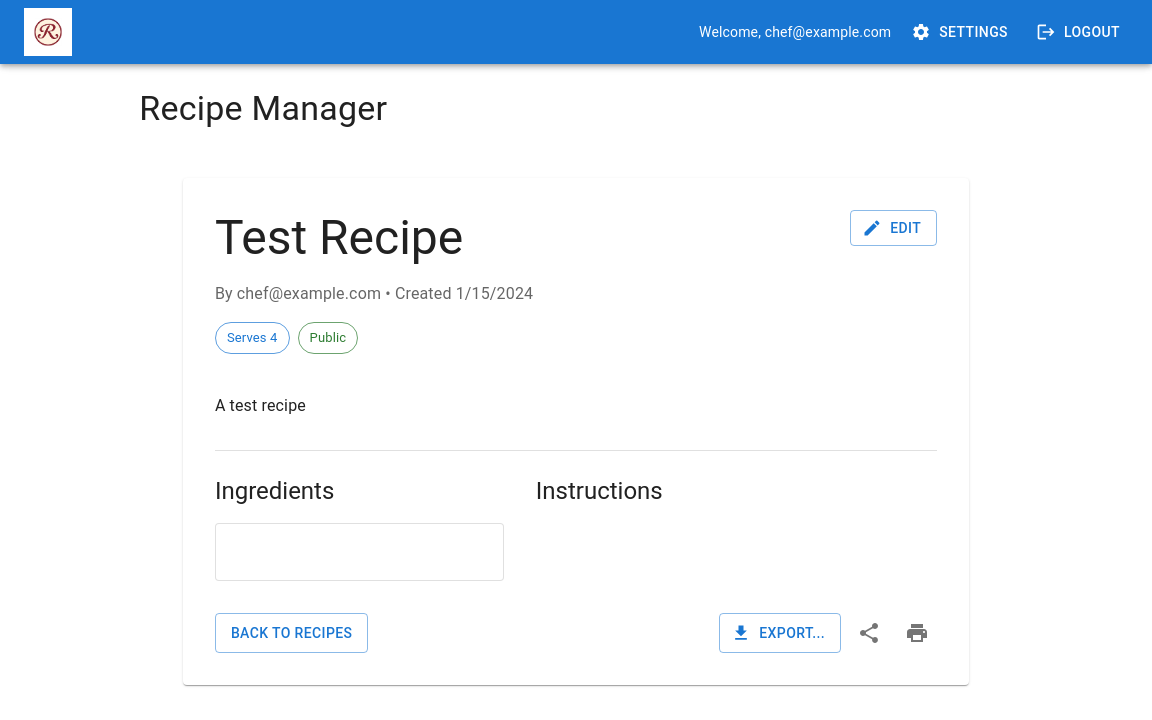
it: RecipeViewPage › Export filename › updates filename to slugified title with .xml extension when RecipeML is selected
Expected: the heading "Test Recipe" is shown, [215, 209, 463, 266]
Click the button "Export..." at (780, 633), box [719, 613, 841, 653]
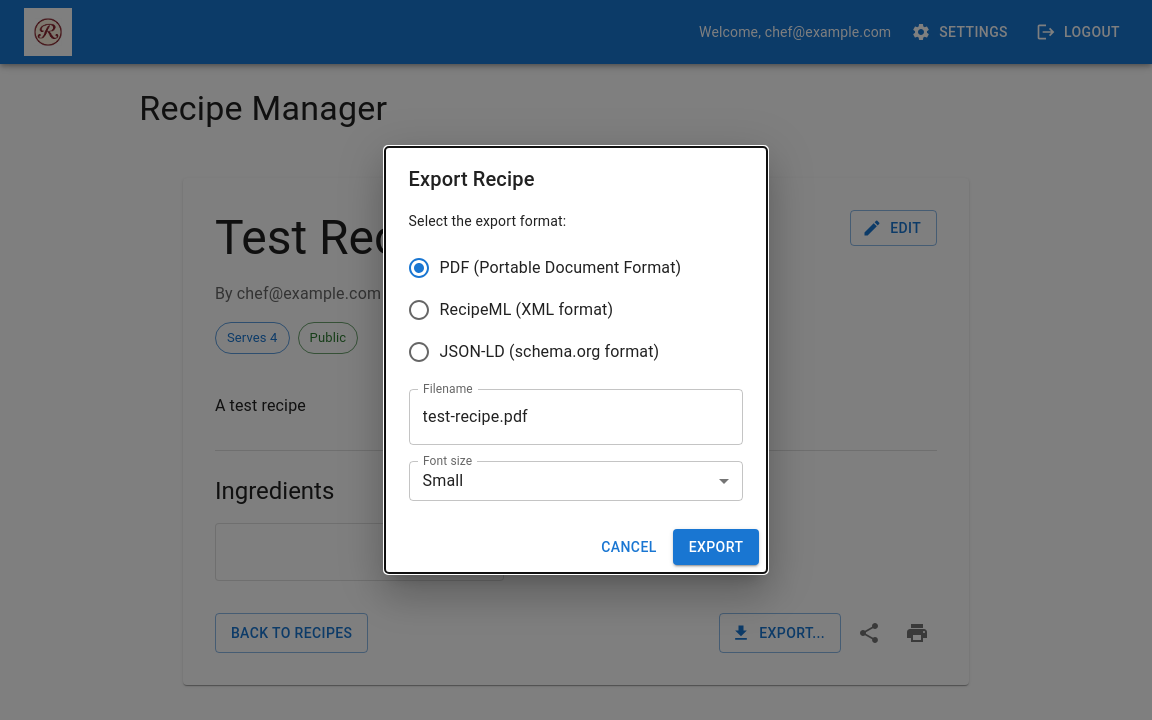
Expected: the field labelled "Filename" is shown, [409, 389, 743, 445]
Click the radio button labelled "RecipeML (XML format)" at (510, 310), box [407, 298, 613, 322]
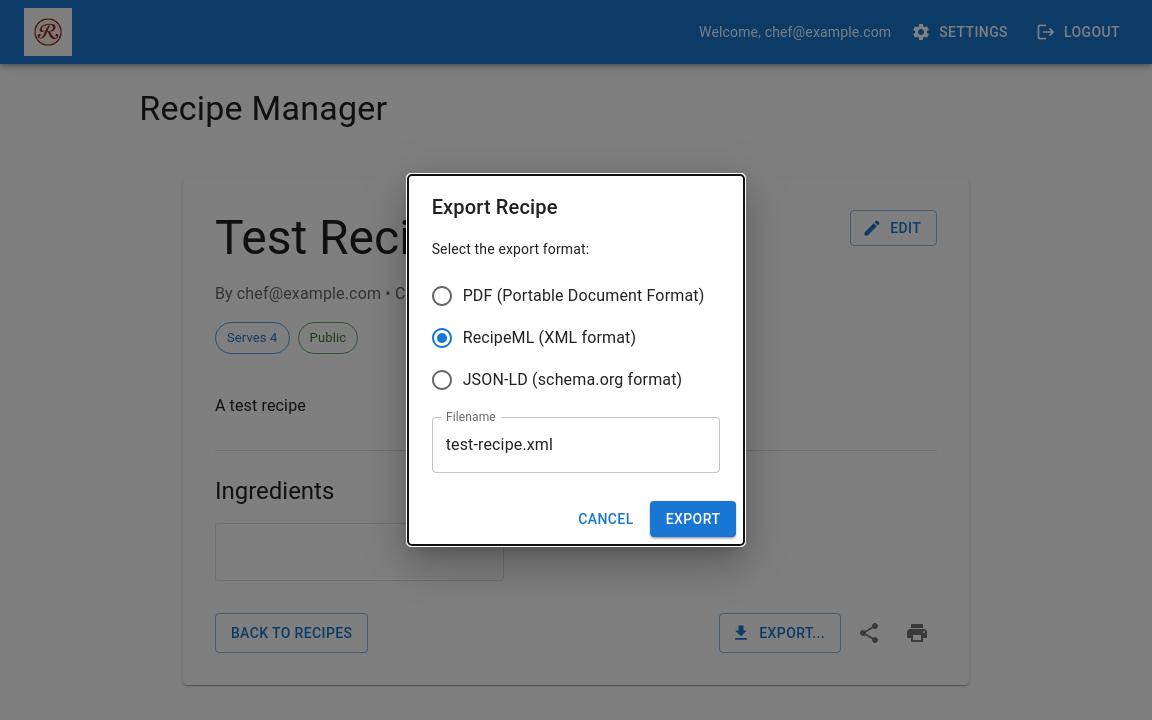
Expected: the field labelled "Filename" holds "test-recipe.xml", [432, 417, 720, 473]
